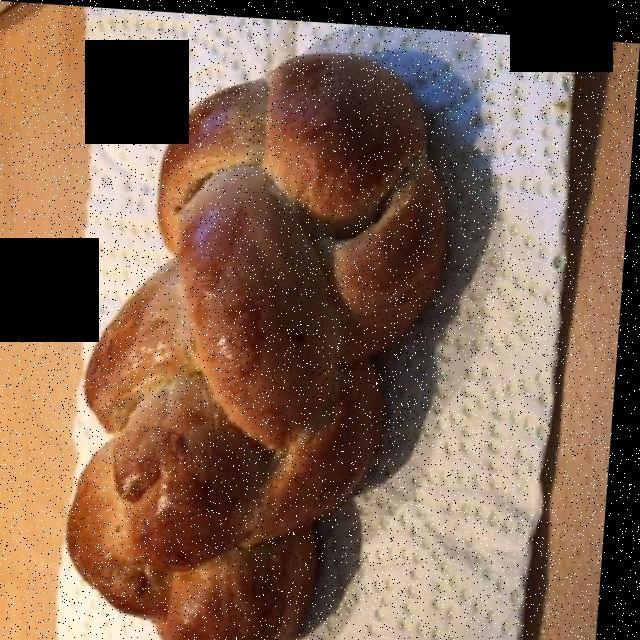bread: (78, 55, 446, 640)
